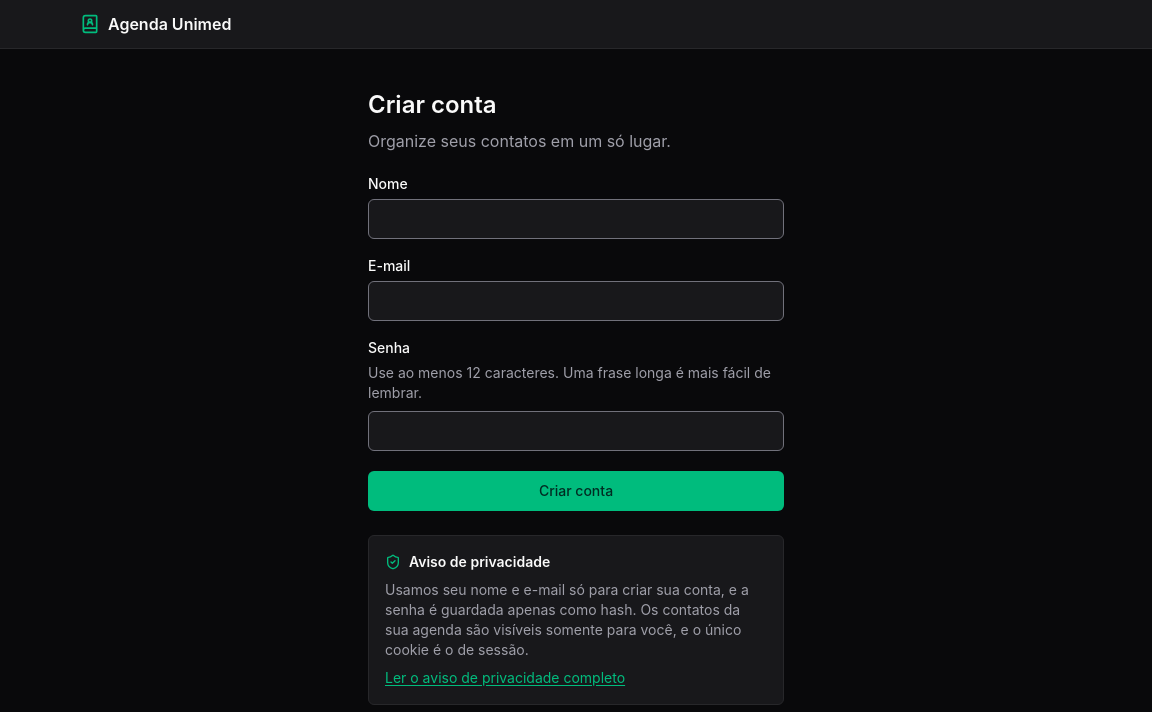
Scenario: Criar conta (RF01) › aplica a política de senha dos contracts, com a dica ligada ao campo
Type "João" into the field labelled "Nome".
click(576, 219); type("João")  # box left=368, top=199, right=784, bottom=239
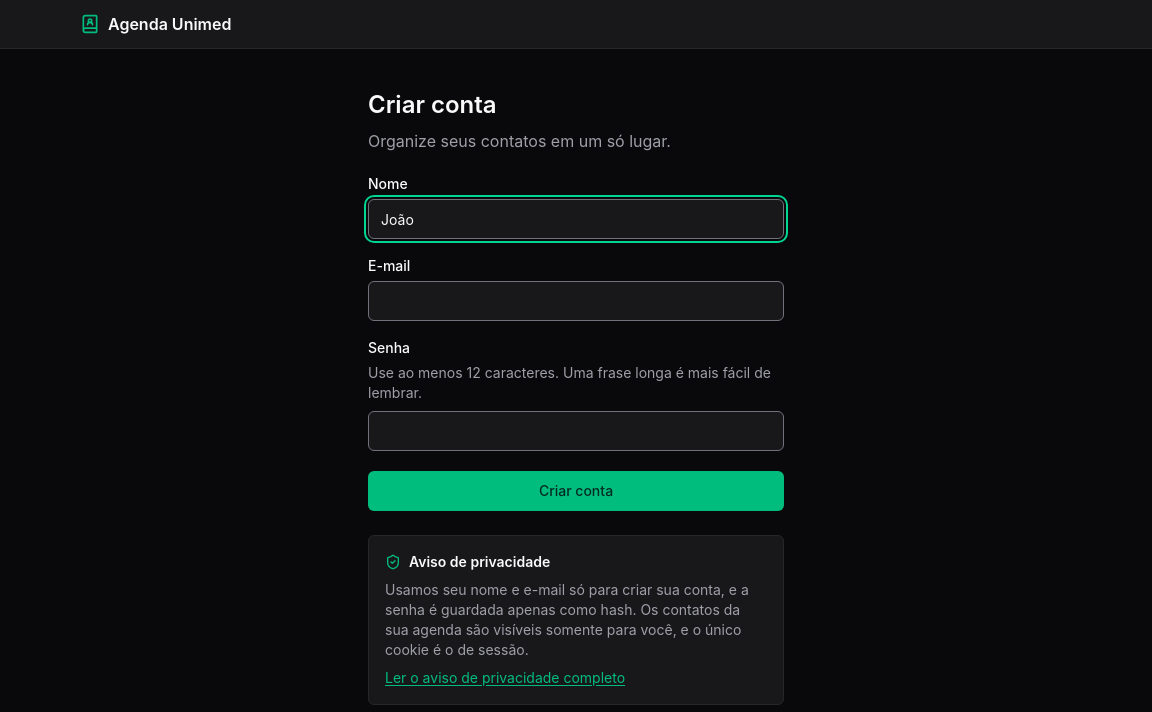
Type "joao@empresa.com" into the field labelled "E-mail".
click(576, 301); type("joao@empresa.com")  # box left=368, top=281, right=784, bottom=321
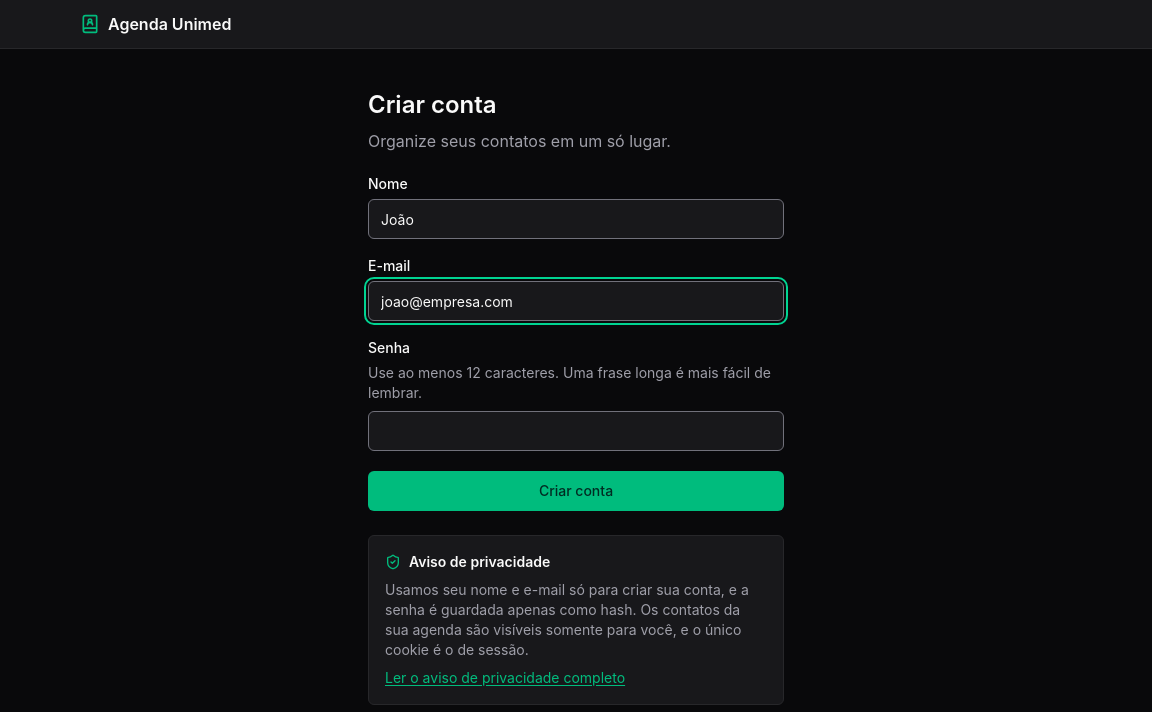
Type "curta" into the password field labelled "Senha".
click(576, 431); type("curta")  # box left=368, top=411, right=784, bottom=451
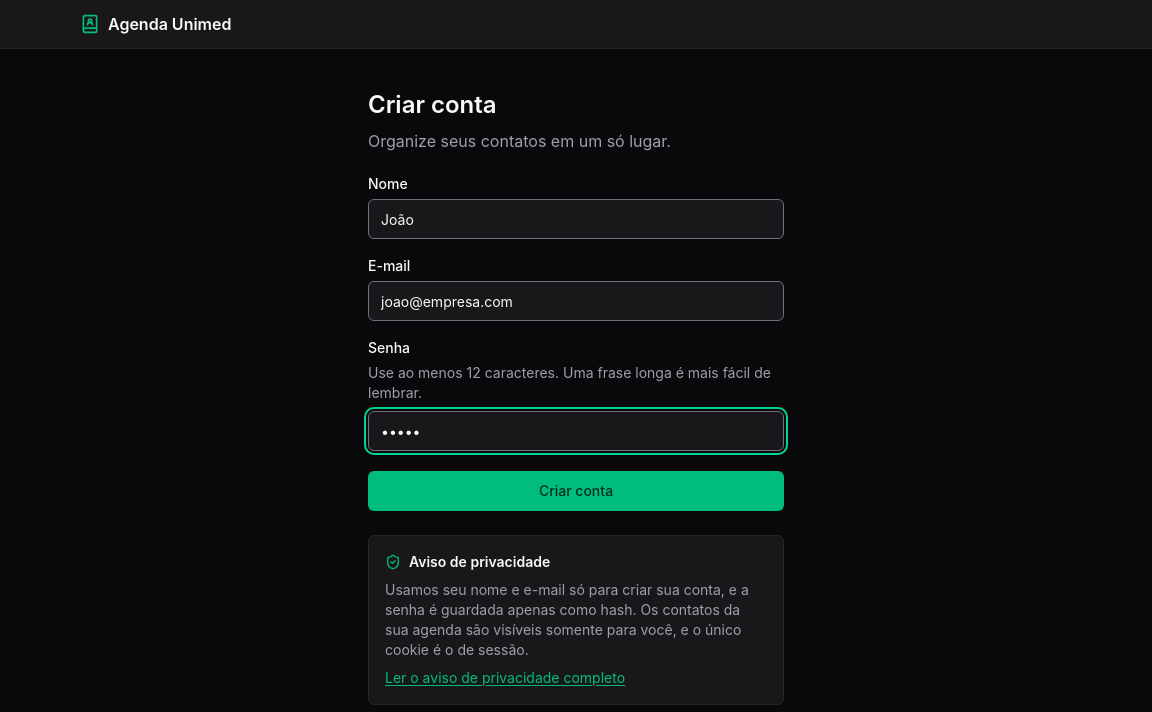
Click the button "Criar conta".
click(576, 491)  # box left=368, top=471, right=784, bottom=511
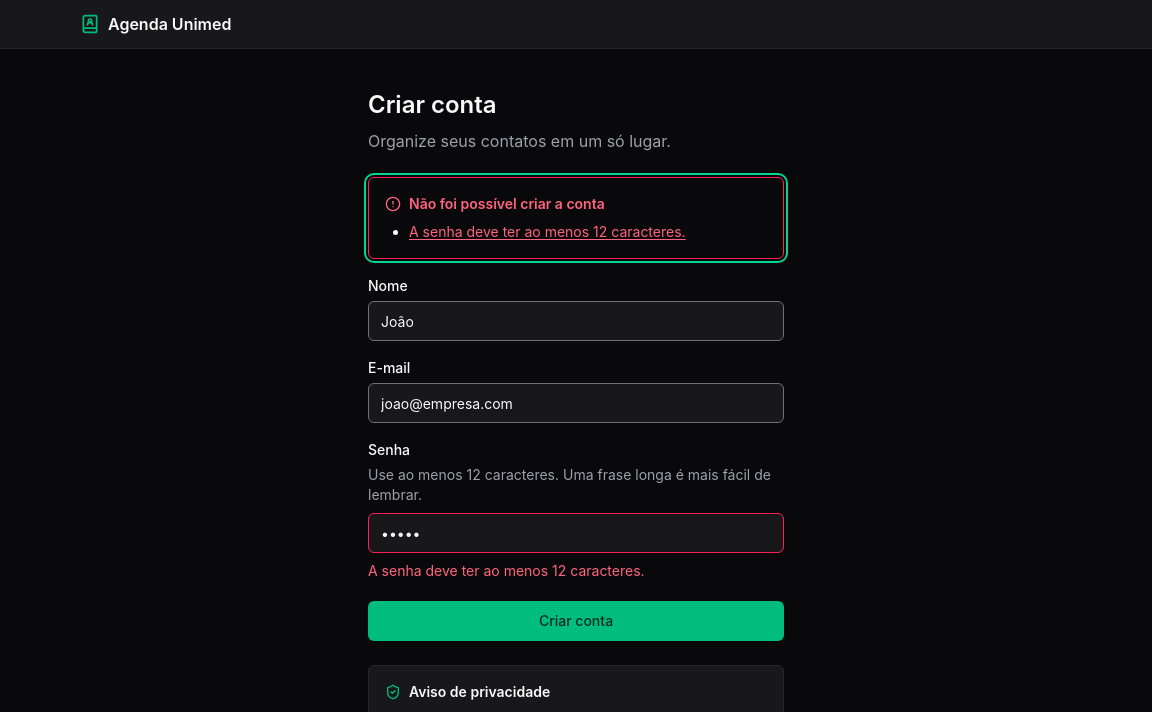
Check: the link "A senha deve ter ao menos 12 caracteres." is shown, box left=409, top=223, right=686, bottom=240
